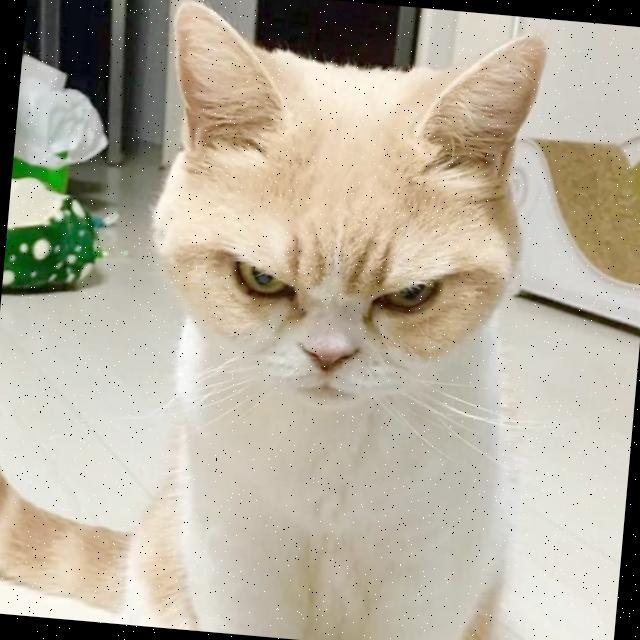Angry: (157, 200, 480, 432)
